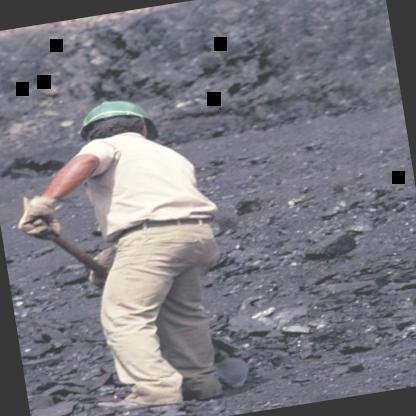helmet: (72, 93, 155, 160)
